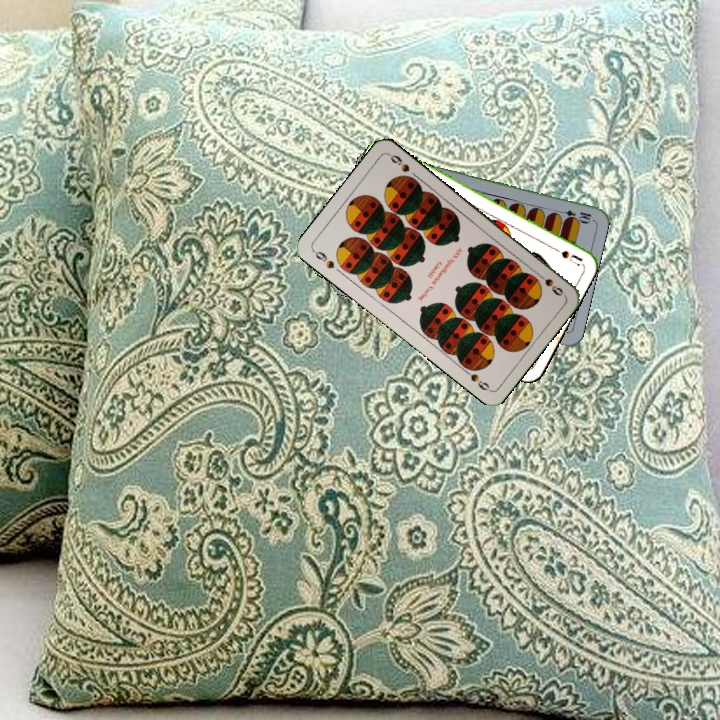E10: (553, 206, 594, 224)
S9: (532, 268, 566, 299), (309, 246, 337, 271)
SU: (545, 242, 585, 268)
